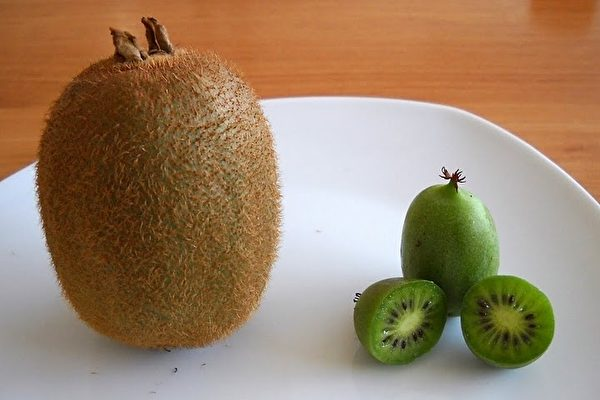kiwi: (36, 47, 283, 350)
